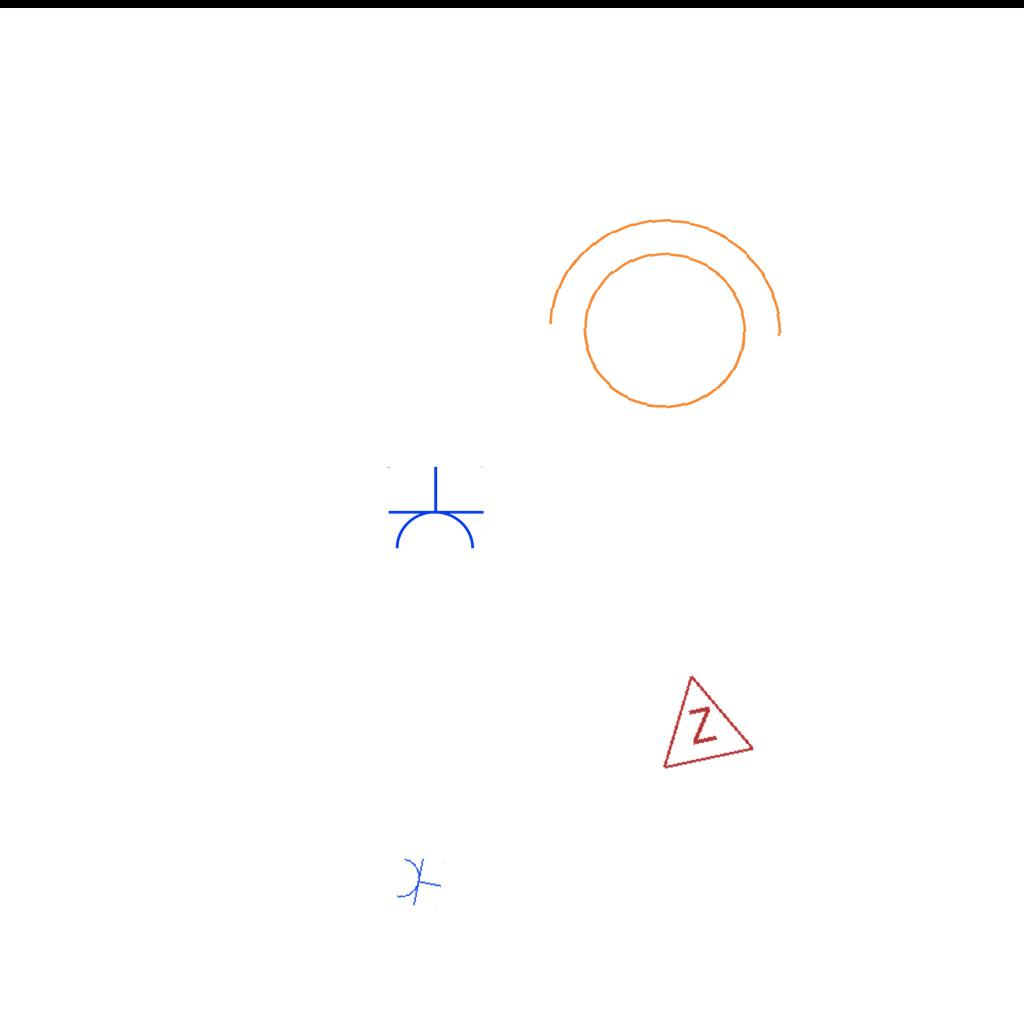Scheinwerfer_fuer_Alarmbeleuchtung: (521, 201, 797, 440)
Schukosteckdose_einfach: (385, 466, 485, 553), (394, 852, 446, 911)
Zimmersignalleuchte: (640, 658, 758, 778)
